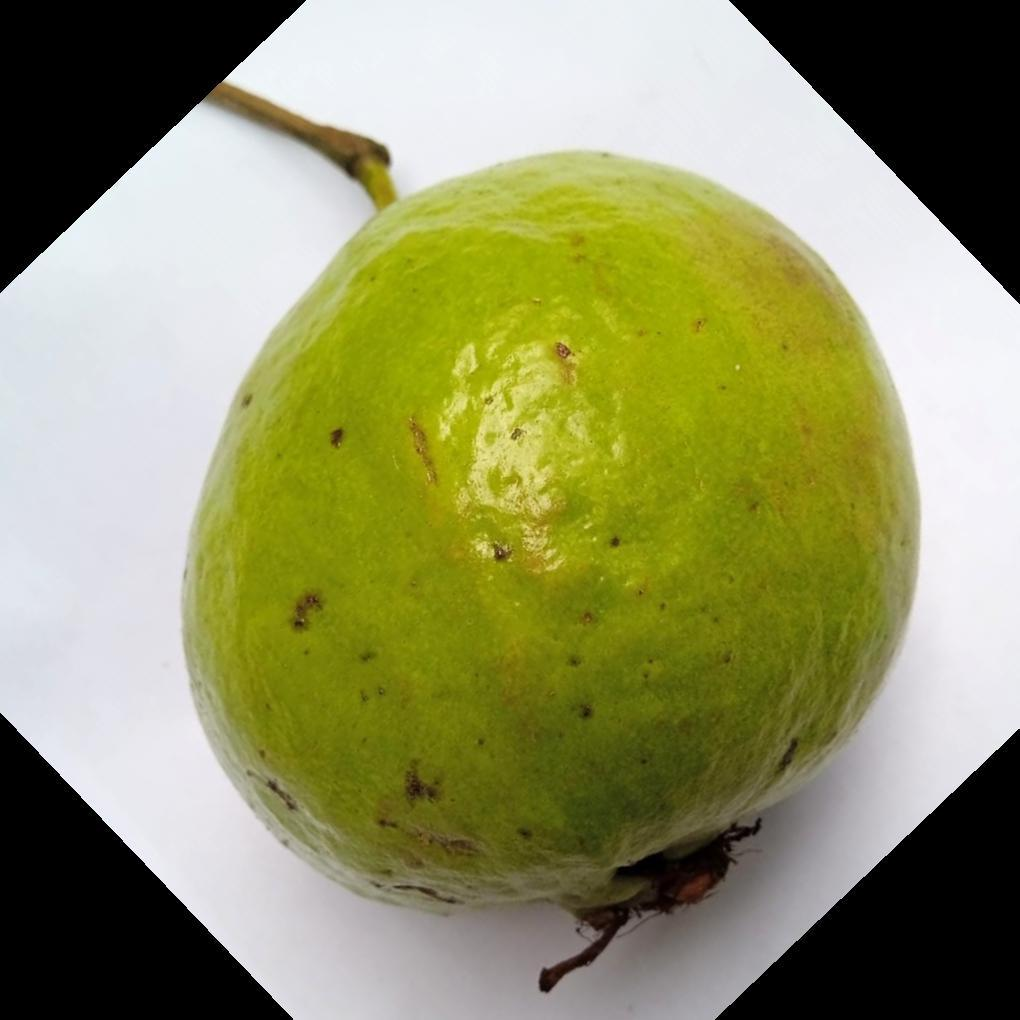FreshGuava: (178, 149, 924, 937)
